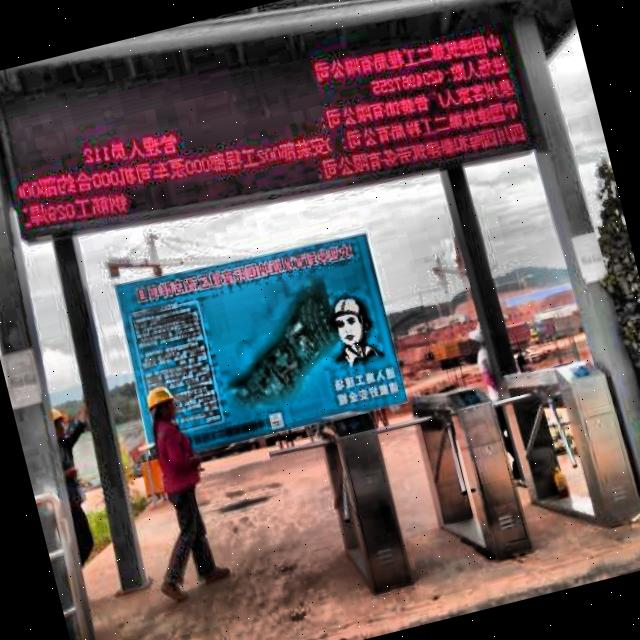helmet: (143, 380, 185, 435)
